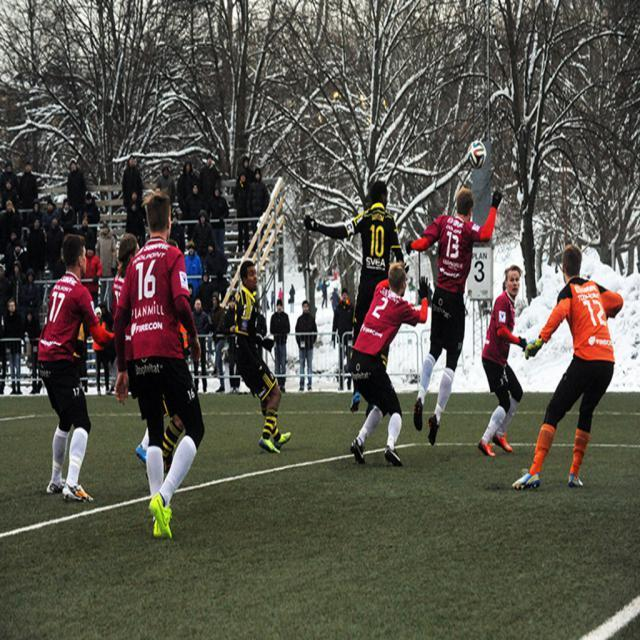football: (465, 136, 489, 169)
